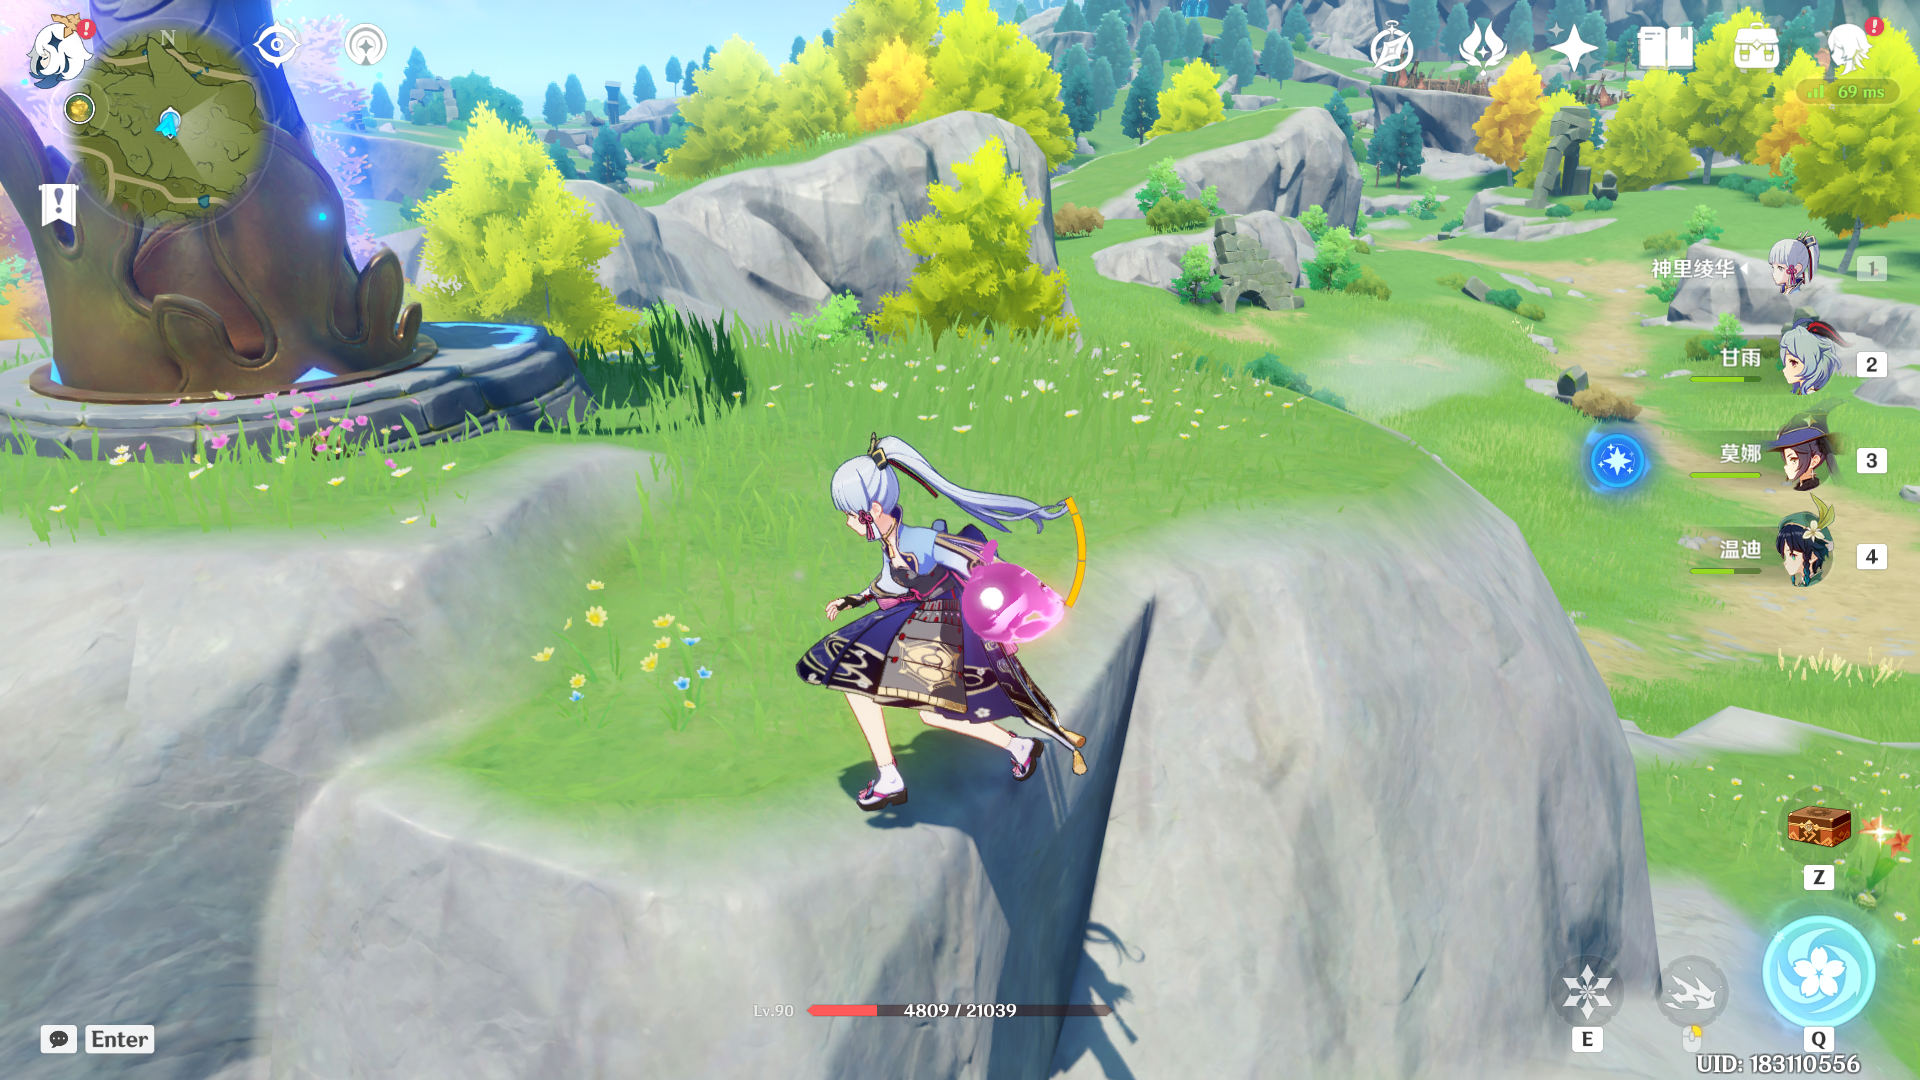character: (769, 409, 1134, 848)
